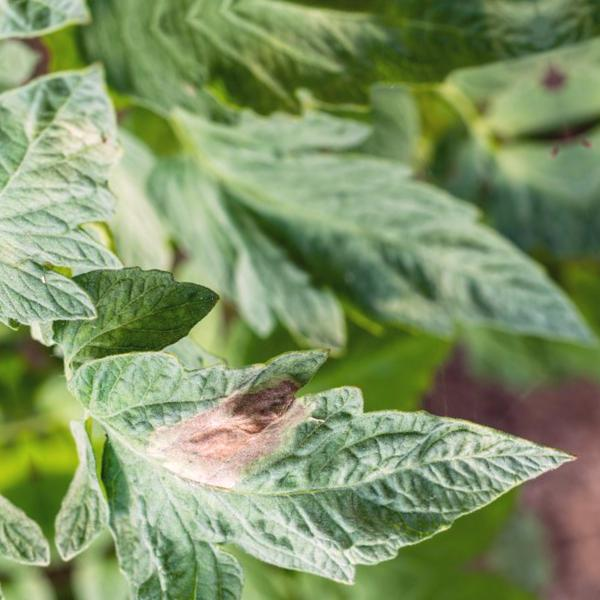Tomato leaf late blight: (12, 245, 600, 600), (0, 45, 171, 341)
